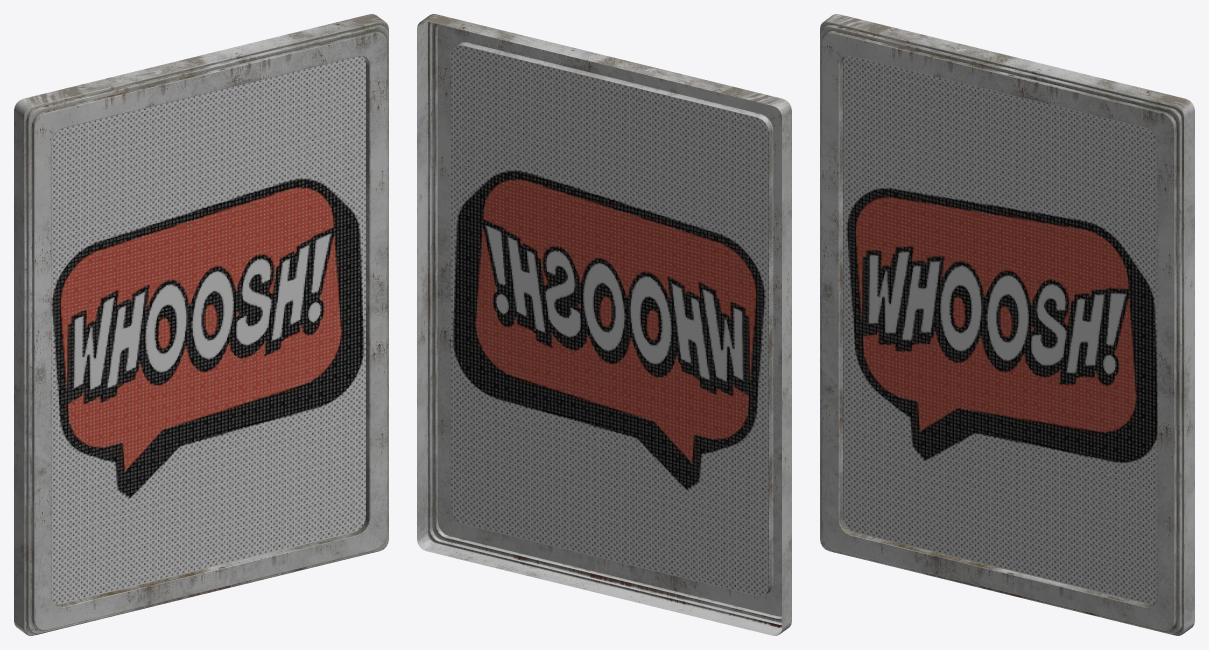
File: SM_Billboard05.glb
3 views of the same model, side by side, from view 1: azimuth 30°, elevation 25°; view 2: azimuth 150°, elevation 25°; view 3: azimuth 330°, elevation 25° (orthographic).
Visible parts, largest first — view 1: SM_Billboard05; view 2: SM_Billboard05; view 3: SM_Billboard05.
Boxes of the visible parts, x1,y1,x2,y2 form: SM_Billboard05: (14, 14, 388, 635); SM_Billboard05: (417, 14, 791, 635); SM_Billboard05: (820, 14, 1194, 635).
Bounding box in the file's own units: 1.55 × 2.15 × 0.105.
2 materials, 2 textured.
